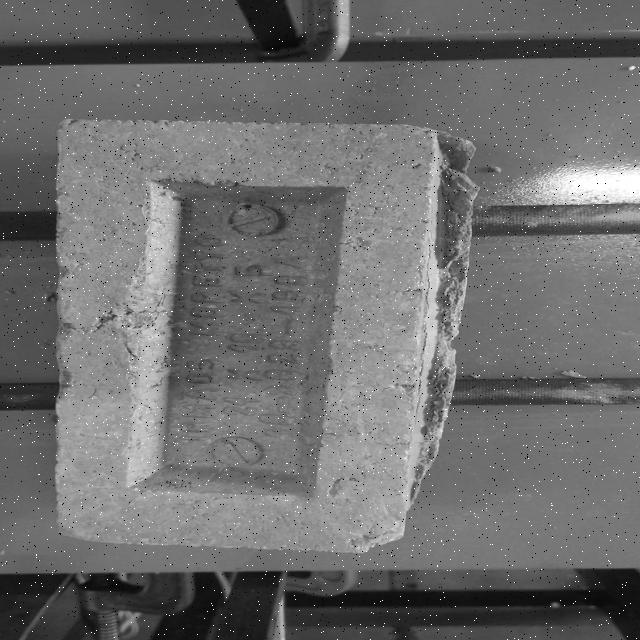bricks_ruin: (56, 119, 481, 554)
